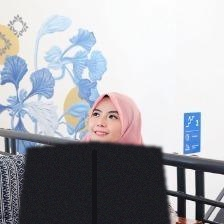Cadar_Niqab: (18, 86, 171, 224)
